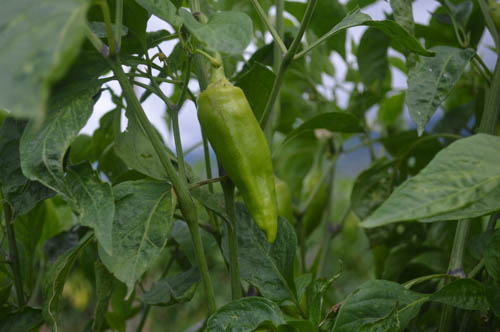ChiliPepper: (205, 90, 281, 241)
